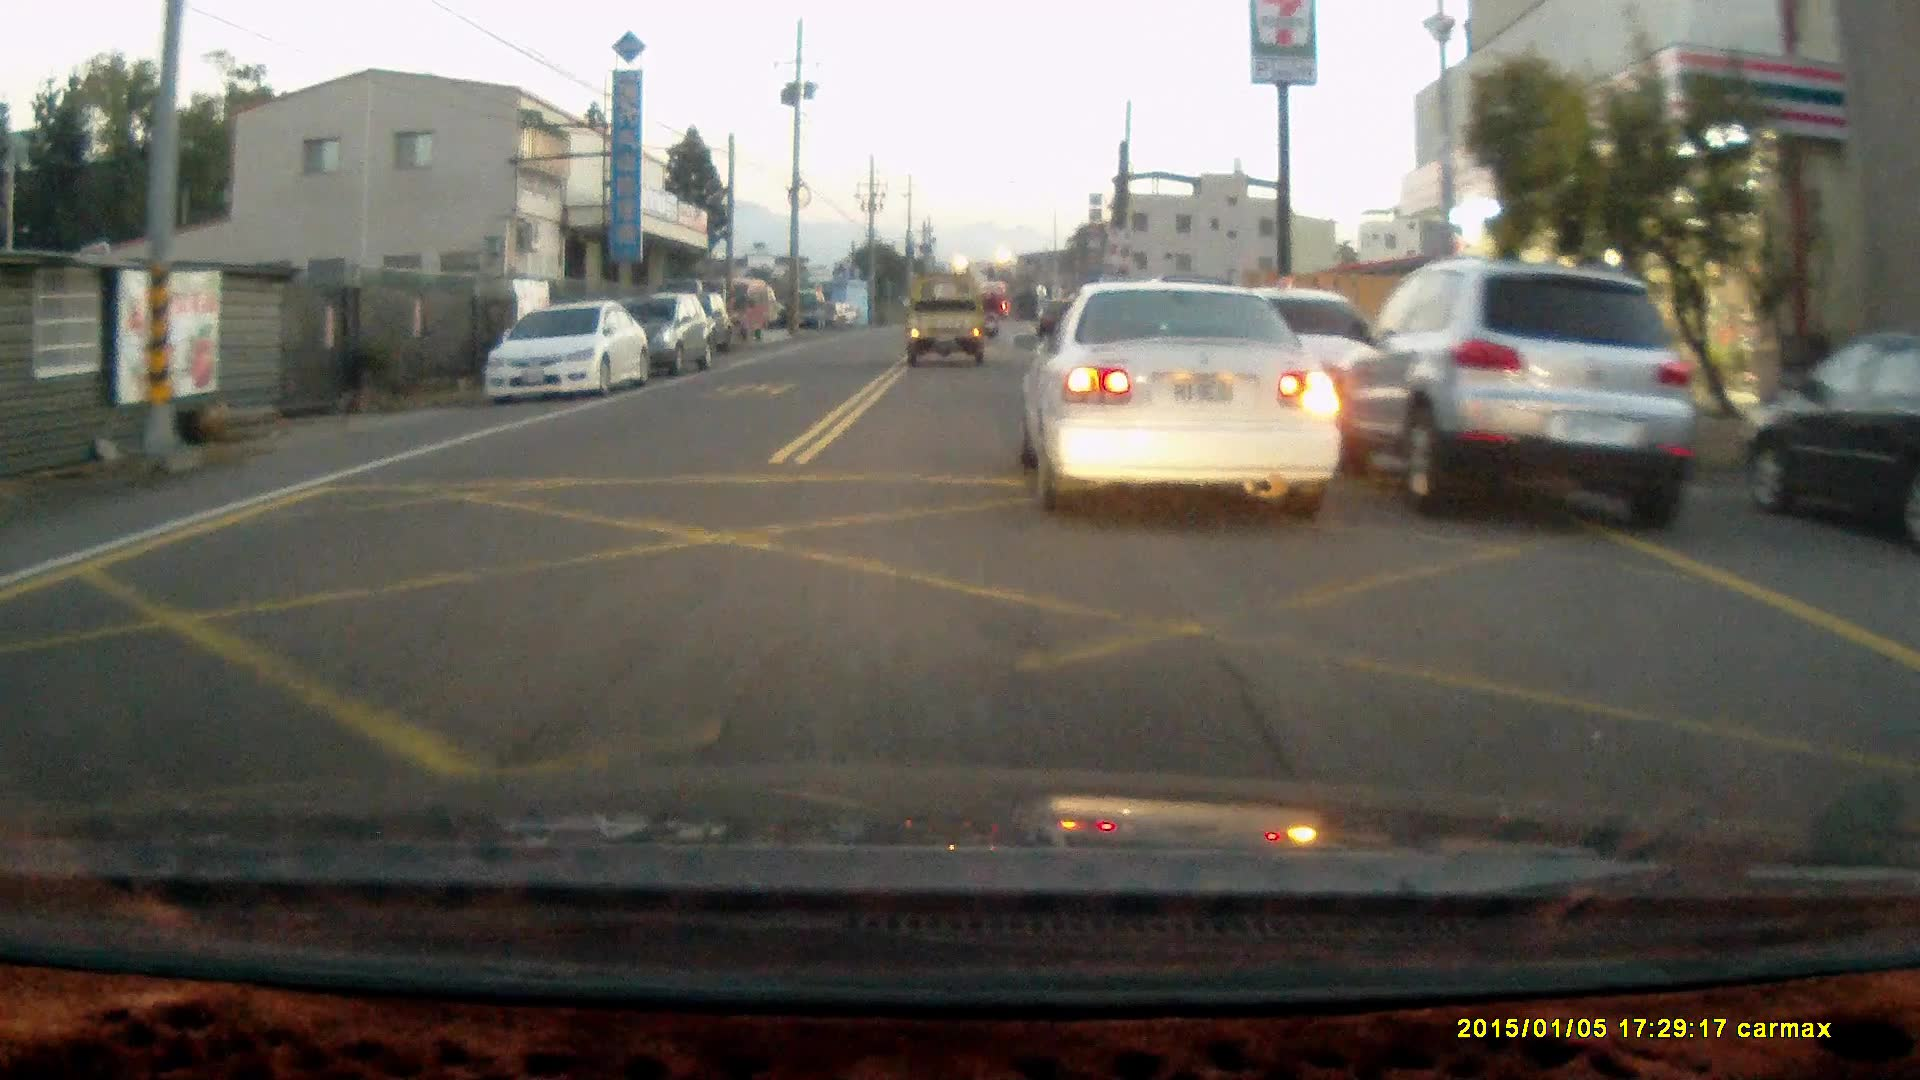rider: (978, 288, 1004, 338)
vehicle: (1322, 263, 1705, 531), (1021, 277, 1342, 508), (1740, 330, 1918, 539), (485, 296, 651, 406), (612, 295, 712, 378), (902, 270, 989, 365)
